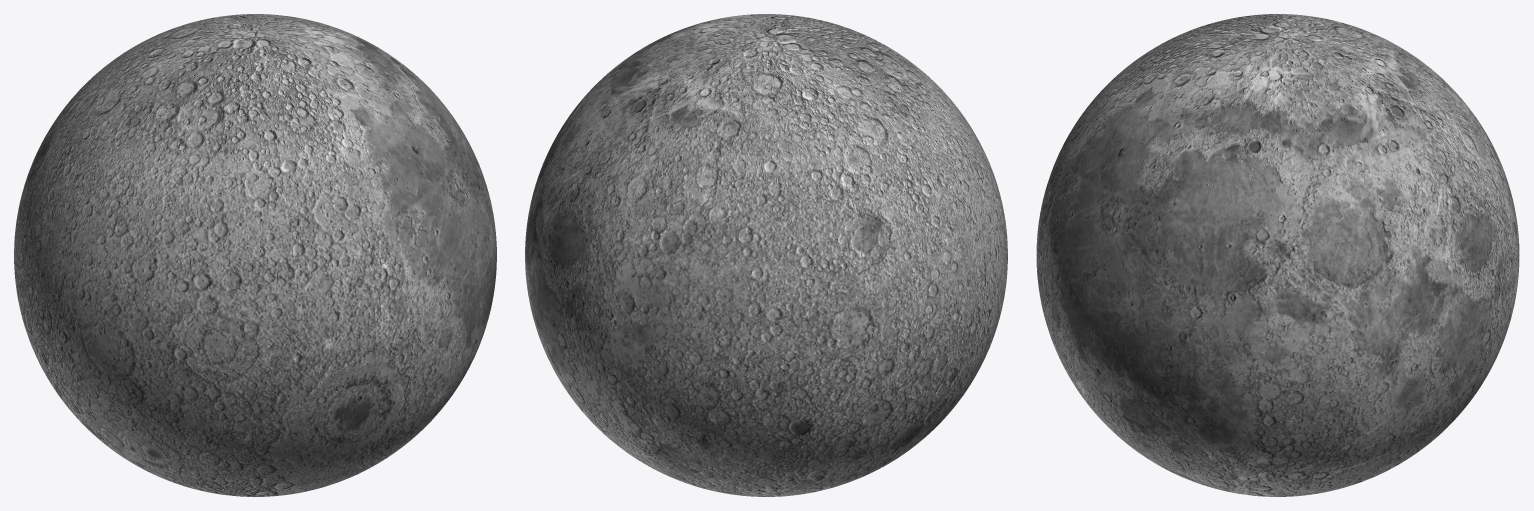
File: Moon.glb
3 views of the same model, side by side, from view 1: azimuth 30°, elevation 25°; view 2: azimuth 150°, elevation 25°; view 3: azimuth 270°, elevation 25° (orthographic).
Bounding box in the file's own units: 3 × 3 × 3.
1 material, 1 textured.
